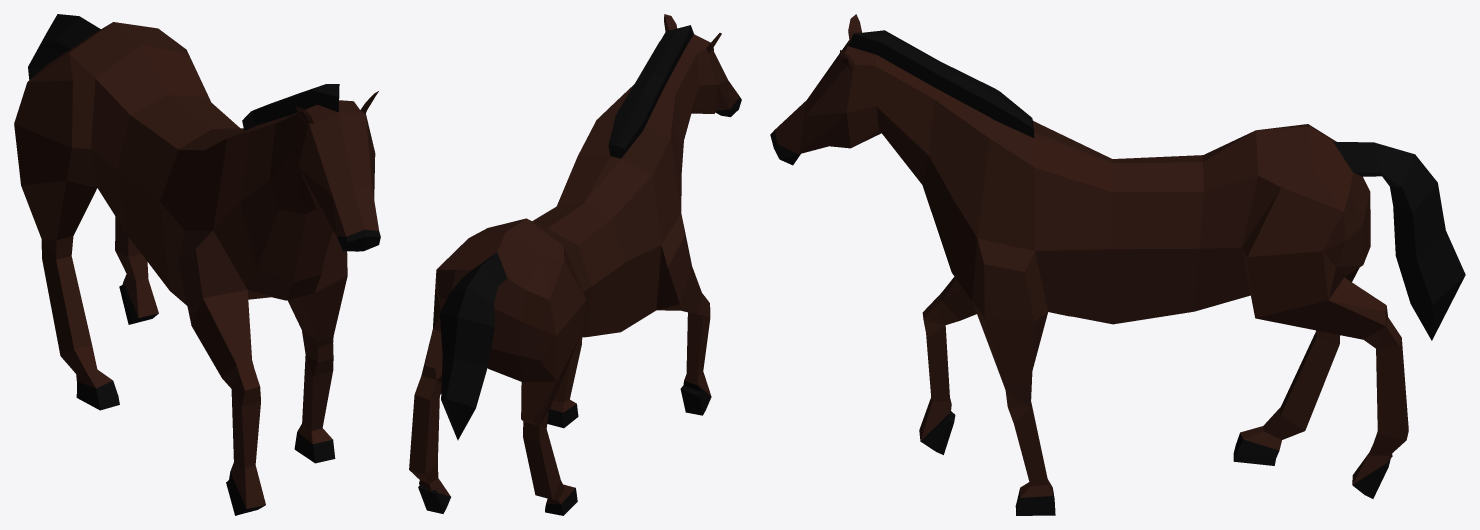
Rendered from Horse_000011.obj.
3 renders of one model, left to right at view 1: azimuth 30°, elevation 25°; view 2: azimuth 150°, elevation 25°; view 3: azimuth 270°, elevation 25°, orthographic. The views are drawn at different scales.
Parts seen in each view (by area): view 1: Horse_Cylinder; view 2: Horse_Cylinder; view 3: Horse_Cylinder.
Boxes of the visible parts, x1,y1,x2,y2 form: Horse_Cylinder: [14, 14, 380, 515]; Horse_Cylinder: [409, 14, 741, 515]; Horse_Cylinder: [770, 14, 1465, 515].
Bounding box in the file's own units: 2.57 × 6.73 × 9.47.
